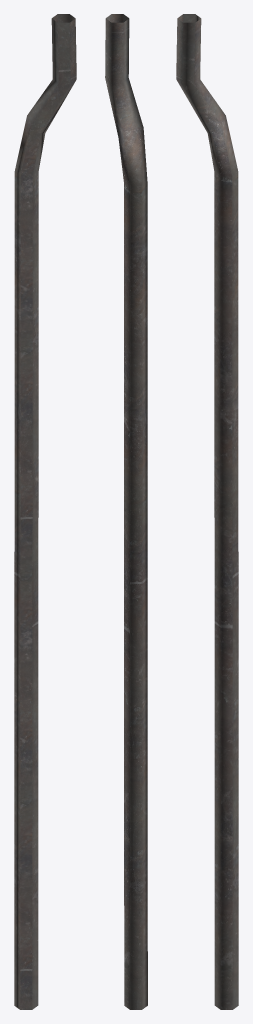
Rendered from Downspout.fbx.
3 renders of one model, left to right at view 1: azimuth 90°, elevation 25°; view 2: azimuth 210°, elevation 25°; view 3: azimuth 270°, elevation 25°, orthographic.
Visible parts, largest first — view 1: Downspout; view 2: Downspout; view 3: Downspout.
Part boxes in pixels (<box>): Downspout: <box>14,14,76,1009</box>; Downspout: <box>105,14,147,1009</box>; Downspout: <box>176,14,238,1009</box>.
Size of the model in its own units: 15.53 by 701 by 40.29.
Materials: 1 (1 with a texture image).
